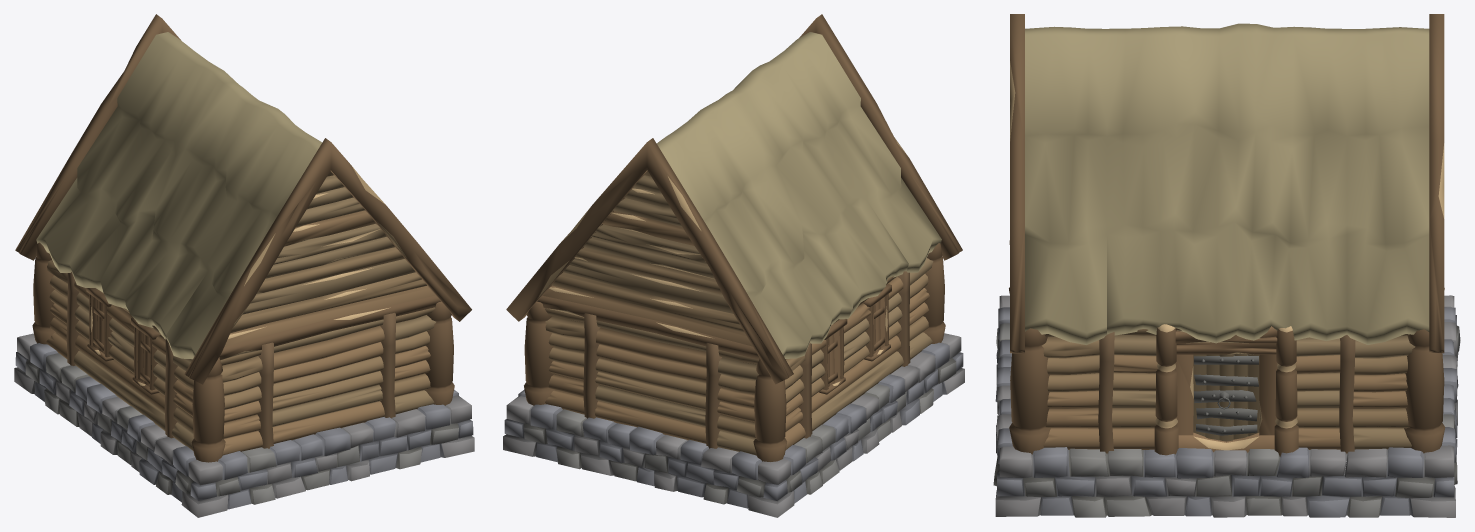
Rendered from House_4.gltf.
The picture shows the model from 3 angles, left to right: view 1: azimuth 30°, elevation 25°; view 2: azimuth 150°, elevation 25°; view 3: azimuth 270°, elevation 25°; orthographic projection. The views are drawn at different scales.
Parts seen in each view (by area): view 1: House_4; view 2: House_4; view 3: House_4.
Part boxes in pixels (x1,y1,x2,y2): House_4: (14, 14, 474, 517); House_4: (503, 14, 964, 517); House_4: (993, 14, 1460, 517).
Bounding box in the file's own units: 6.73 × 7.72 × 7.79.
1 material, 1 textured.
